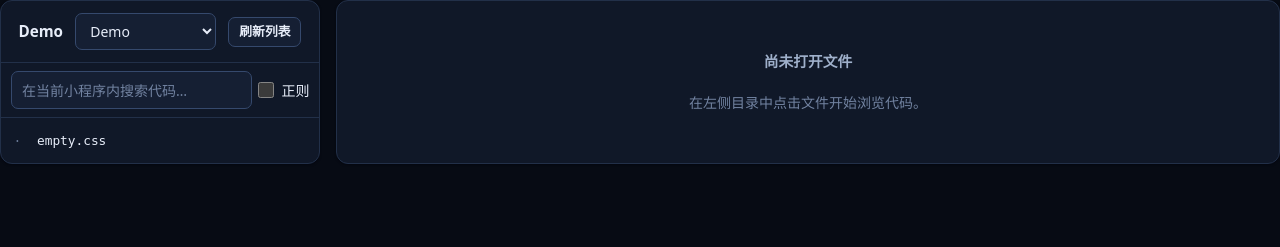
Scenario: CodeBrowserView › says an empty file is empty instead of showing a blank editor
Click the button with test id "tree-C__out_empty_css" at (72, 140), box top-left (7, 125), bottom-right (313, 156)
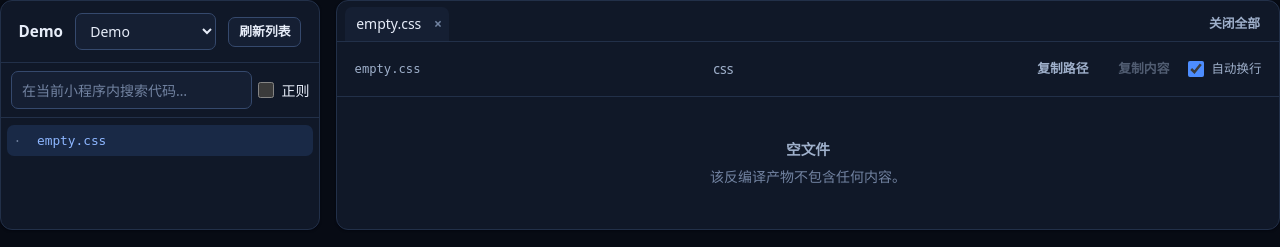
Now the element with class "code-empty" shows "空文件", box top-left (786, 140), bottom-right (830, 160)
Now the button with test id "copy-file-content" is disabled, box top-left (1107, 54), bottom-right (1180, 84)
